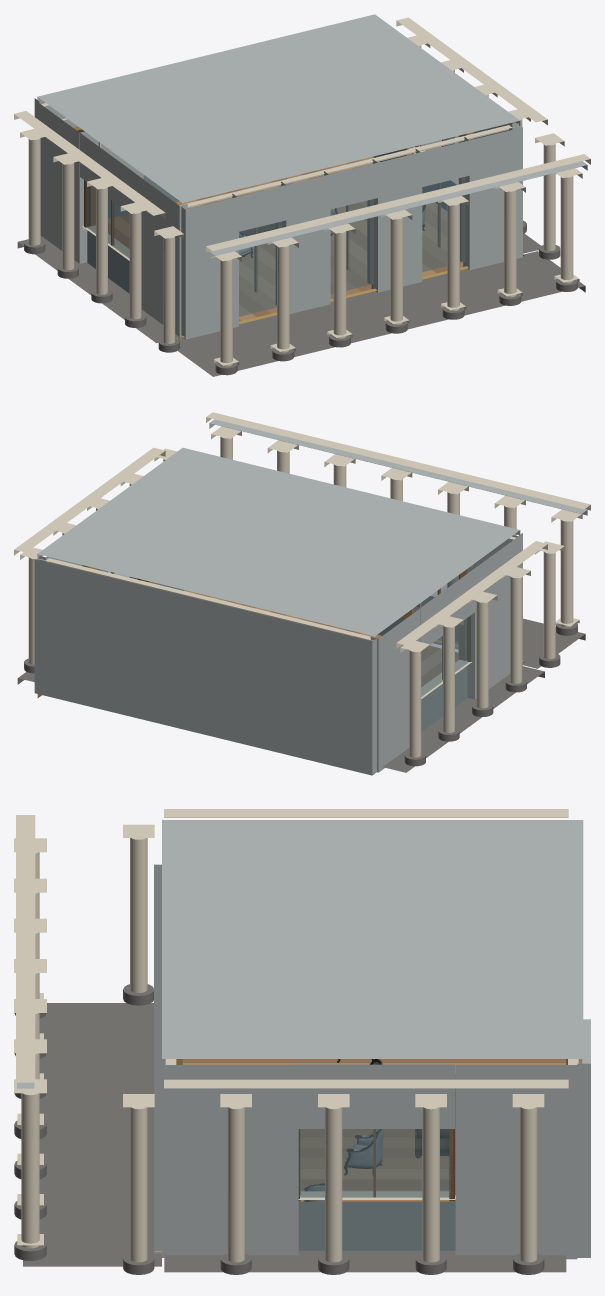
Rendered from salon.glb.
3 views of the same model, one above another, from view 1: azimuth 30°, elevation 25°; view 2: azimuth 150°, elevation 25°; view 3: azimuth 270°, elevation 25° (orthographic). The views are drawn at different scales.
Visible parts, largest first — view 1: ceiling, lake loggia floor, lake wall pier 0, lake wall pier last, lake wall pier 1, lake wall pier 2, side wall lower rear -1, side wall lower front -1, lake window glass 0, loggia front entablature, lake window glass 1, lake window glass 2 (+26 smaller); view 2: ceiling, rear wall, side wall lower rear -1, side wall lower front -1, loggia front entablature, loggia front fascia, side loggia return -1, side gallery entablature 1, side gallery entablature -1, side window glass -1, rear cornice, side window header -1 (+9 smaller); view 3: ceiling, lake loggia floor, side wall lower front 1, side wall lower rear 1, side window glass 1, side window header 1, side dado 1, side loggia return 1, loggia front entablature, side gallery entablature 1, side gallery entablature -1, rear wall (+18 smaller).
Part boxes in pixels (x1,y1,x2,y2): ceiling: (37,14,520,202); lake loggia floor: (178,251,585,376); lake wall pier 0: (181,196,238,339); lake wall pier last: (464,127,522,270); lake wall pier 1: (281,174,330,313); lake wall pier 2: (372,152,422,292); side wall lower rear -1: (37,102,87,263); side wall lower front -1: (134,173,187,338); lake window glass 0: (239,221,282,316); loggia front entablature: (206,154,590,252); lake window glass 1: (330,199,374,294); lake window glass 2: (422,176,465,271); ceiling: (37,447,520,636); rear wall: (34,559,376,775); side wall lower rear -1: (370,608,420,772); side wall lower front -1: (466,535,520,699); loggia front entablature: (206,412,590,510); loggia front fascia: (209,419,587,515); side loggia return -1: (383,666,544,772); side gallery entablature 1: (14,447,165,555); side gallery entablature -1: (396,541,547,648); side window glass -1: (421,615,471,696); rear cornice: (38,558,373,640); side window header -1: (413,567,476,650); ceiling: (162,820,583,1058); lake loggia floor: (23,1003,161,1266); side wall lower front 1: (166,1065,298,1255); side wall lower rear 1: (455,1065,577,1259); side window glass 1: (299,1129,450,1197); side window header 1: (294,1064,454,1128); side dado 1: (298,1202,455,1250); side loggia return 1: (164,1250,566,1272); loggia front entablature: (16,815,35,1082); side gallery entablature 1: (164,1079,568,1088); side gallery entablature -1: (164,809,568,817); rear wall: (577,1019,590,1257).
Size of the model in its own units: 13.73 by 4.75 by 11.84.
Materials: 26 (6 with a texture image).
